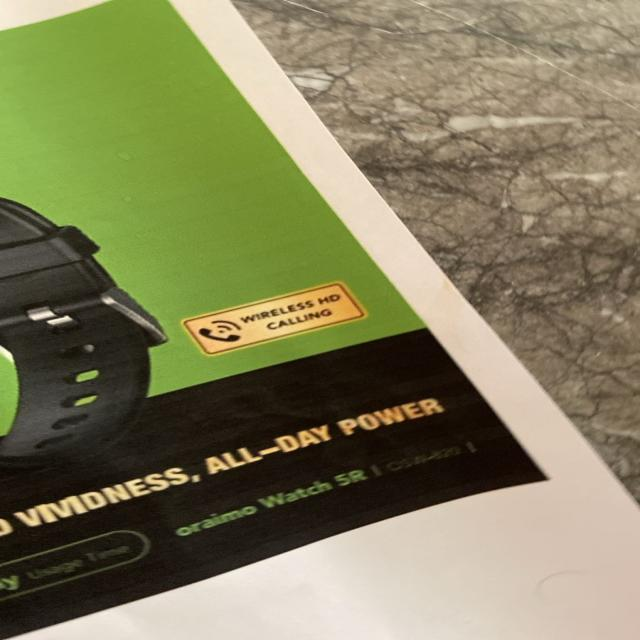Oraimo Watch 5R OSW-820: (161, 435, 495, 550)
